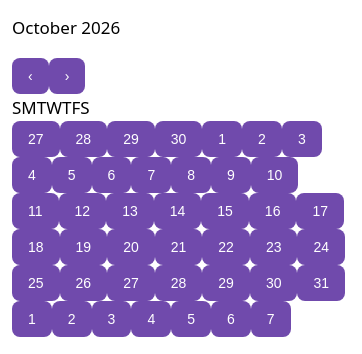
MiniMonth › browses across a year boundary
What coordinates should you click on to do the following:
click the button named "Show next month"
I would click on:
 (67, 76)
Its box is [49,58,85,94].
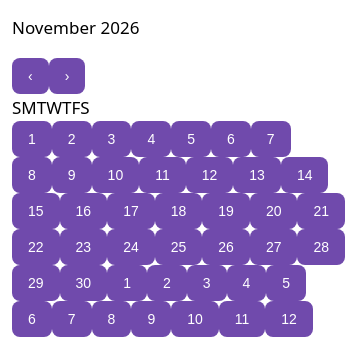
What coordinates should you click on to do the following:
click the button named "Show next month"
I would click on:
 (67, 76)
Its box is [49,58,85,94].
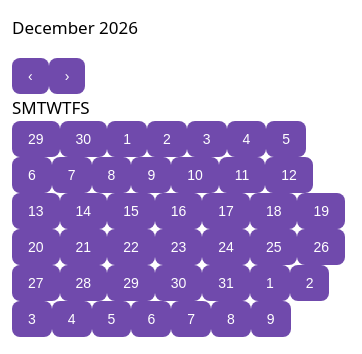
What coordinates should you click on to do the following:
click the button named "Show next month"
I would click on:
 (67, 76)
Its box is [49,58,85,94].
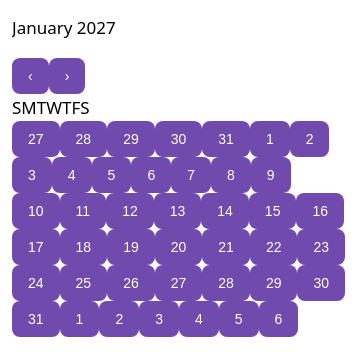
Expected: the text "January 2027" is shown, [12,16,116,39]
